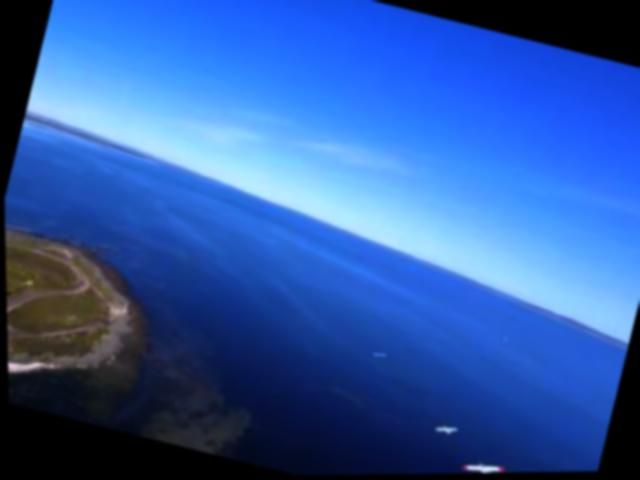uav: (458, 456, 503, 475), (431, 422, 458, 441)
